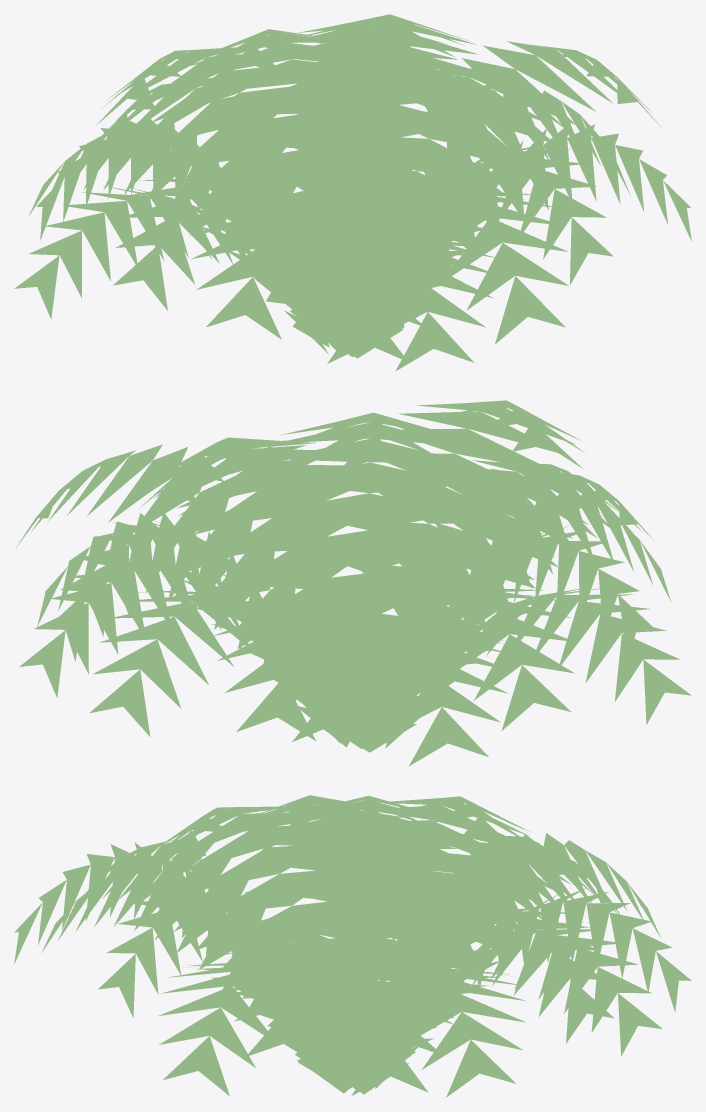
The model's file is Blender_Fern_3.glb.
The picture shows the model from 3 angles, top to bottom: view 1: azimuth 30°, elevation 25°; view 2: azimuth 150°, elevation 25°; view 3: azimuth 270°, elevation 25°; orthographic projection. The views are drawn at different scales.
Parts seen in each view (by area): view 1: Blender_Fern_3; view 2: Blender_Fern_3; view 3: Blender_Fern_3.
Boxes of the visible parts, x1=… form: Blender_Fern_3: x1=14, y1=14, x2=691, y2=371; Blender_Fern_3: x1=15, y1=400, x2=691, y2=765; Blender_Fern_3: x1=14, y1=795, x2=691, y2=1097.
Bounding box in the file's own units: 2.01 × 0.749 × 2.
